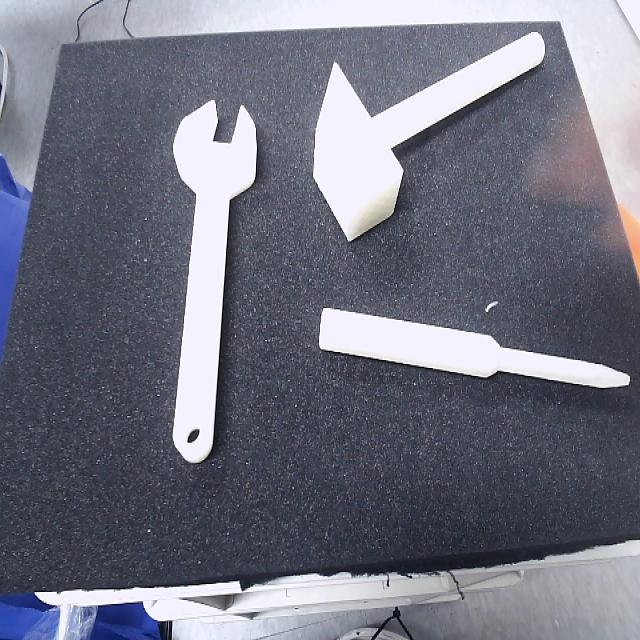Driver: (318, 309, 632, 391)
Hammer: (313, 28, 546, 243)
Spanner: (171, 100, 259, 467)
